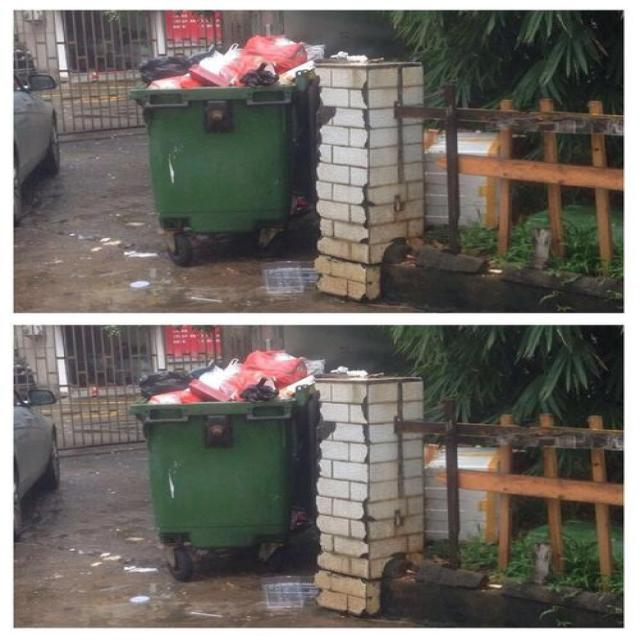garbage: (258, 574, 318, 609), (258, 257, 315, 293)
overflow: (130, 346, 324, 550), (130, 32, 322, 233)
